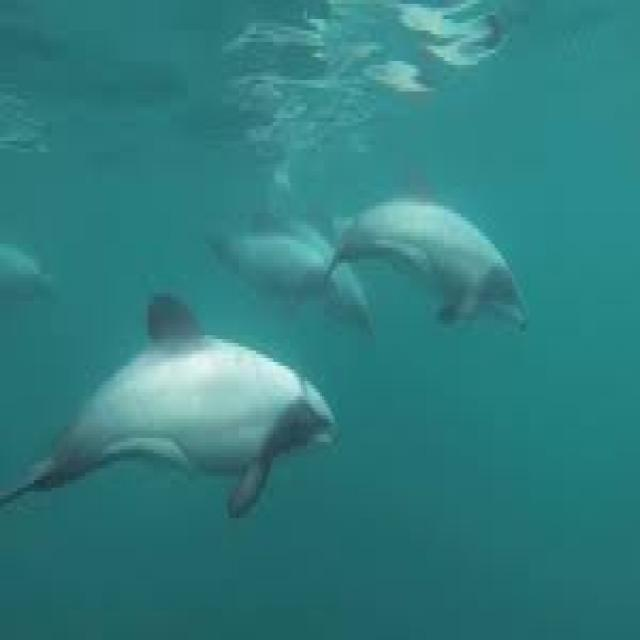dolphin: (4, 320, 358, 602), (327, 152, 538, 381)
